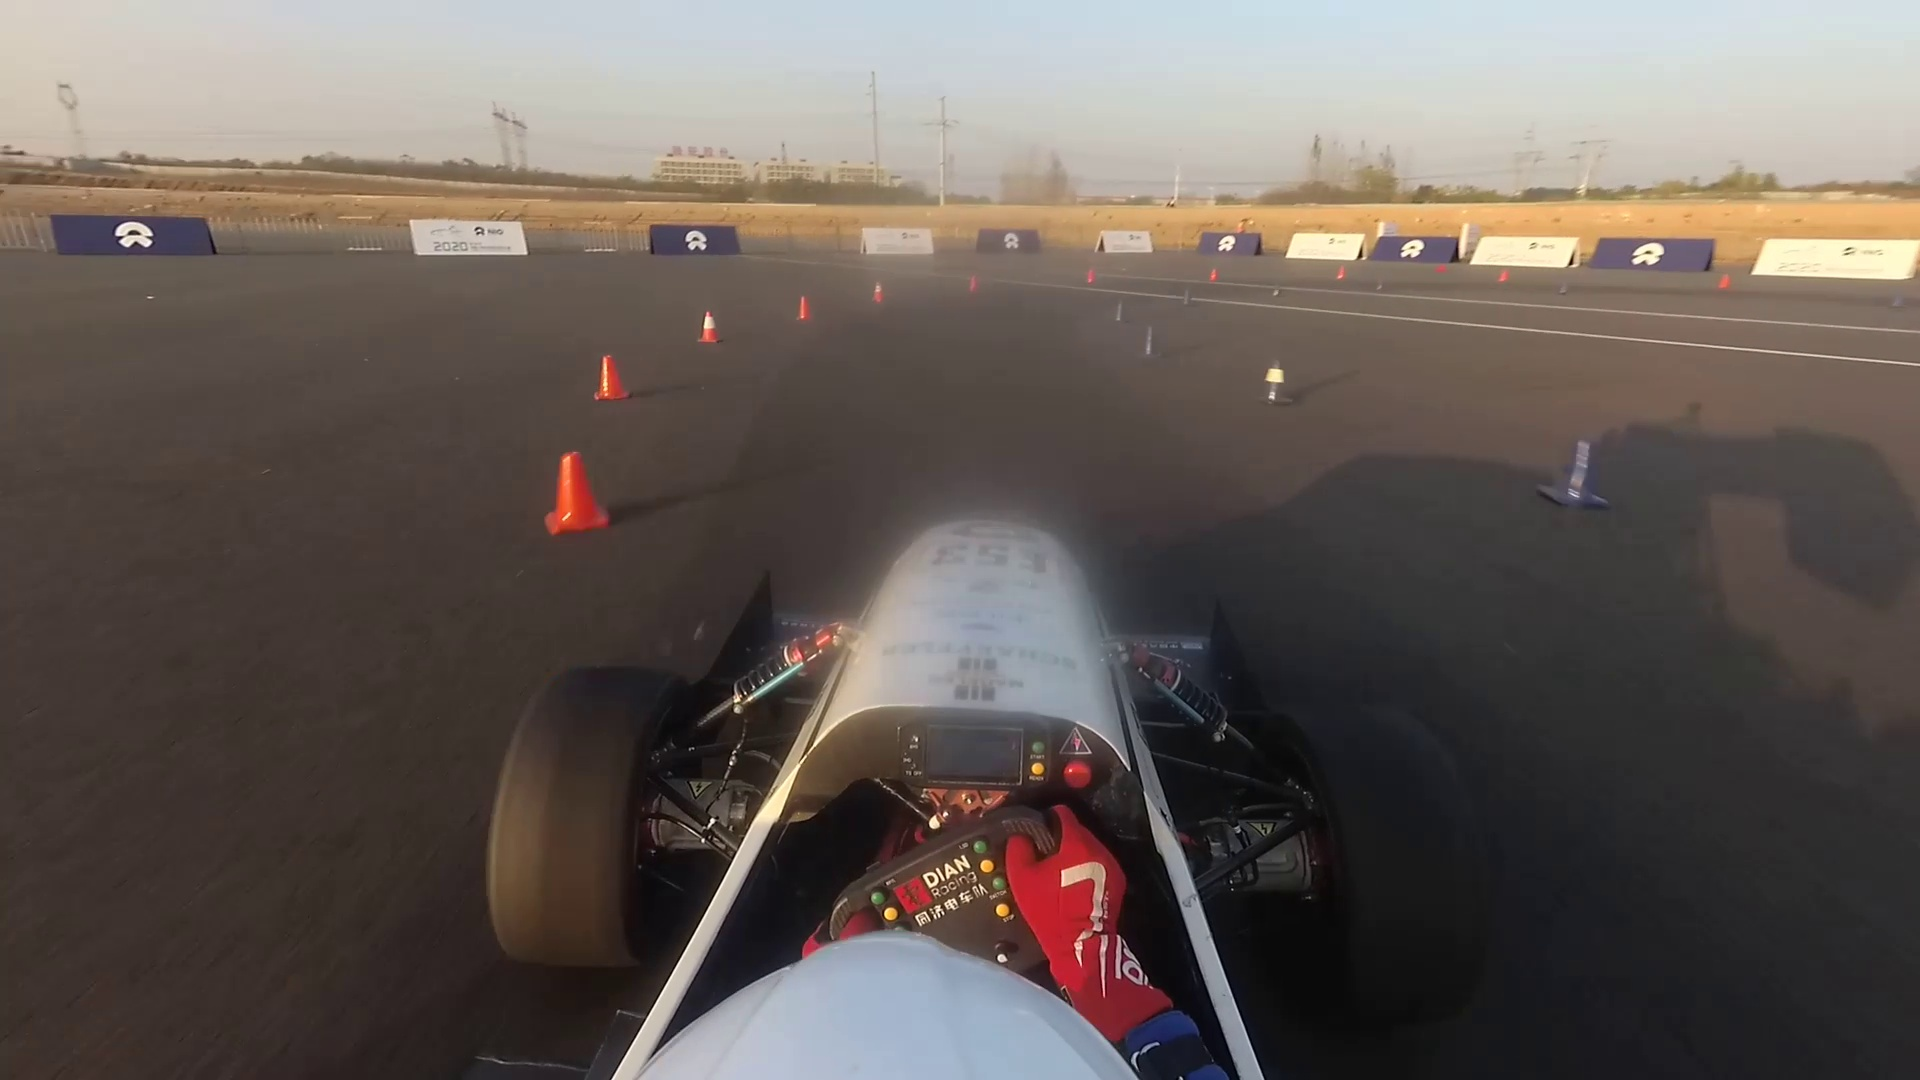blue_cone: (1542, 433, 1615, 512), (1259, 360, 1299, 415), (1143, 327, 1162, 367), (1109, 298, 1126, 332), (1176, 286, 1193, 313), (1888, 290, 1908, 313), (1369, 276, 1389, 293), (1267, 280, 1280, 302), (1557, 277, 1567, 297)
red_cone: (535, 454, 612, 531), (591, 352, 632, 406), (694, 310, 723, 347), (793, 291, 818, 320), (868, 280, 893, 307), (1712, 272, 1737, 290), (1495, 266, 1513, 287), (1332, 262, 1349, 282), (964, 272, 978, 294), (1085, 266, 1096, 286), (1433, 262, 1449, 276), (1207, 266, 1218, 284)
